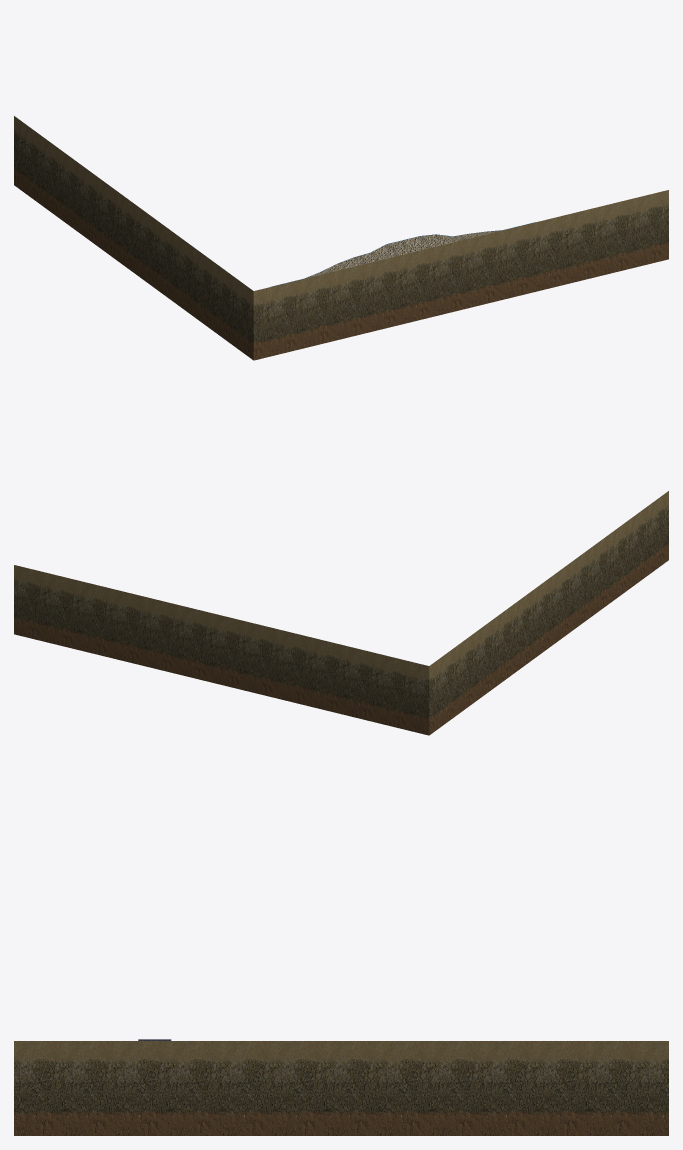
The picture shows the model from 3 angles, top to bottom: view 1: azimuth 30°, elevation 25°; view 2: azimuth 150°, elevation 25°; view 3: azimuth 270°, elevation 25°; orthographic projection. The views are drawn at different scales.
Visible parts, largest first — view 1: Joint_0_Object_2, Joint_0_Object_0; view 2: Joint_0_Object_2; view 3: Joint_0_Object_2.
Boxes of the visible parts, x1,y1,x2,y2 form: Joint_0_Object_2: (14,116,668,360); Joint_0_Object_0: (304,230,501,278); Joint_0_Object_2: (14,491,668,735); Joint_0_Object_2: (14,1041,668,1135).
Size of the model in its own units: 10000 by 1935 by 10000.
4 materials, 4 textured.
